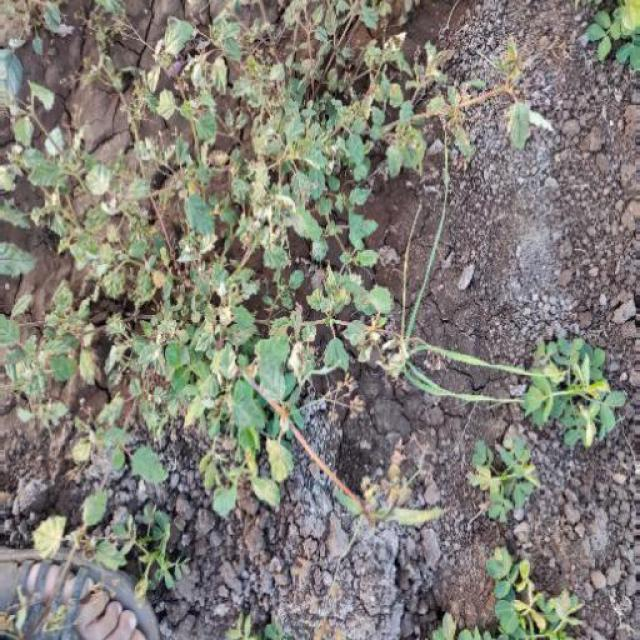weed: (1, 1, 480, 530), (514, 336, 622, 454)
